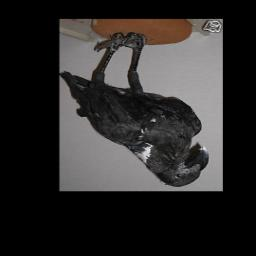Crow: (61, 31, 212, 187)
